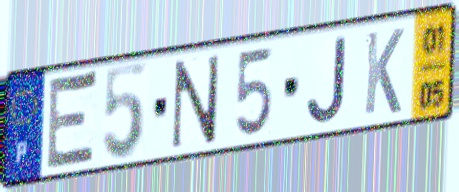5: (101, 59, 152, 164), (234, 44, 275, 139)
E: (43, 67, 101, 175)
J: (303, 32, 350, 127)
K: (361, 26, 406, 119)
N: (168, 51, 223, 152)
